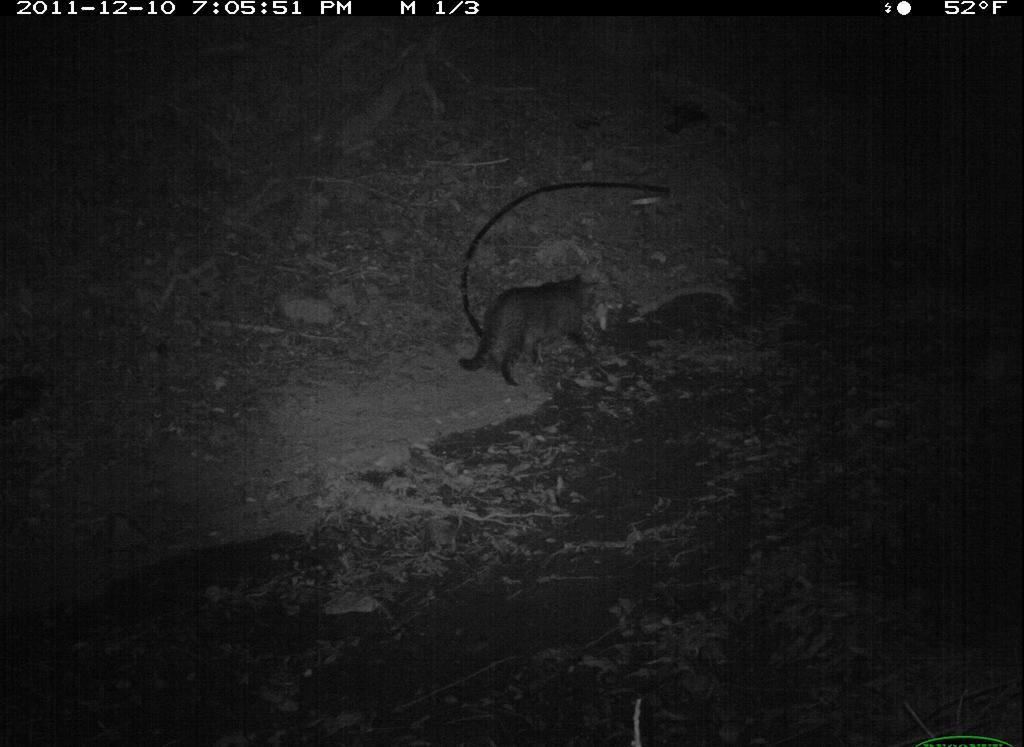cat: (472, 264, 609, 391)
